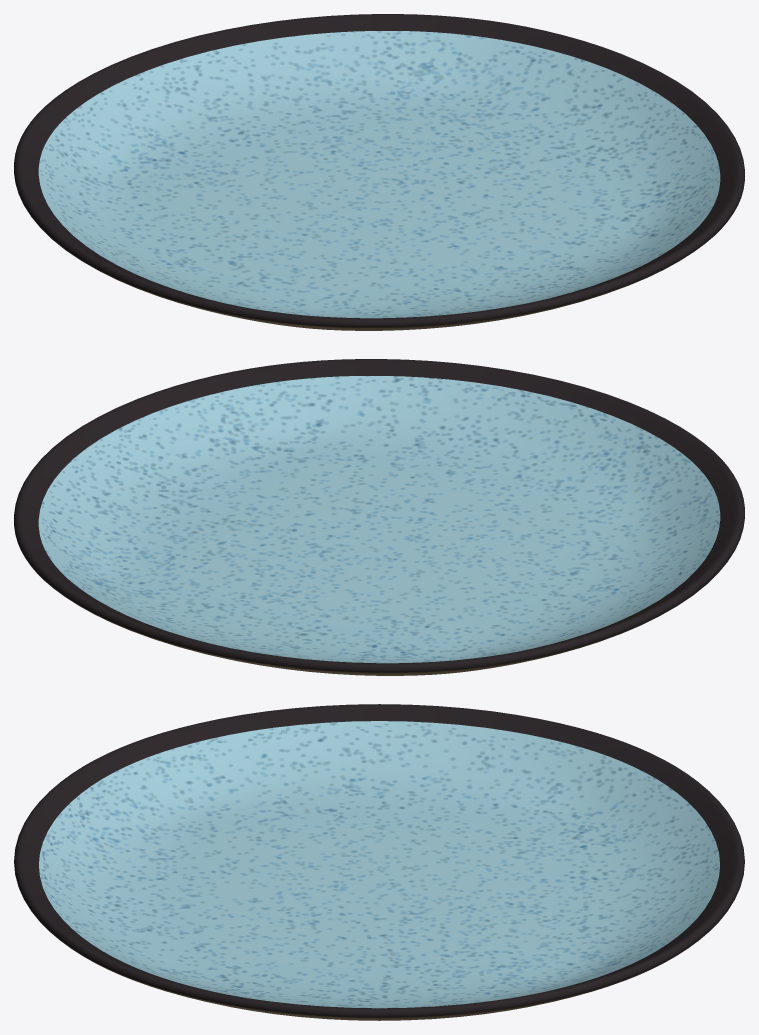
Rendered from Plato1.glb.
3 renders of one model, top to bottom at view 1: azimuth 30°, elevation 25°; view 2: azimuth 150°, elevation 25°; view 3: azimuth 270°, elevation 25°, orthographic.
Visible parts, largest first — view 1: Plane; view 2: Plane; view 3: Plane.
Part boxes in pixels (x1,y1,x2,y2): Plane: (14,14,744,330); Plane: (14,359,744,675); Plane: (14,704,744,1020).
Bounding box in the file's own units: 0.2476 × 0.0181 × 0.2476.
1 material, 1 textured.
